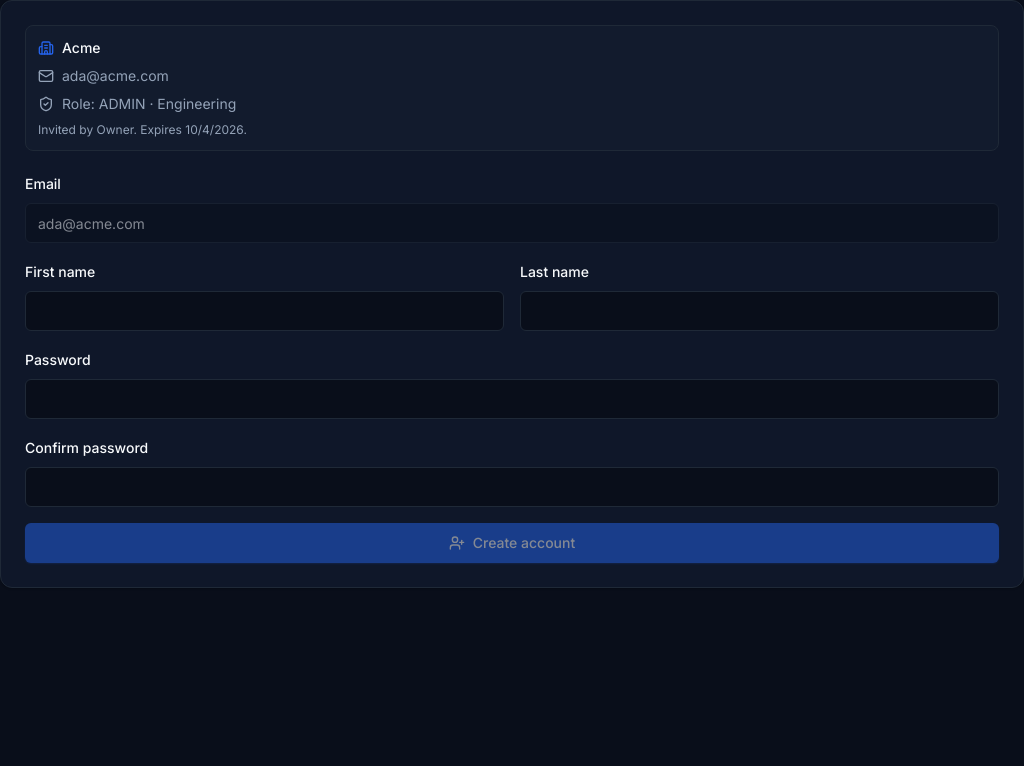
Test: AcceptInvitationPage — validation (§11, §17) › surfaces a server-side policy rejection instead of insisting the password is fine
Expected: the text "Acme" is shown, [62, 38, 101, 58]
Type "Ada" into the field labelled "First name" at (264, 311), box [25, 291, 504, 331]
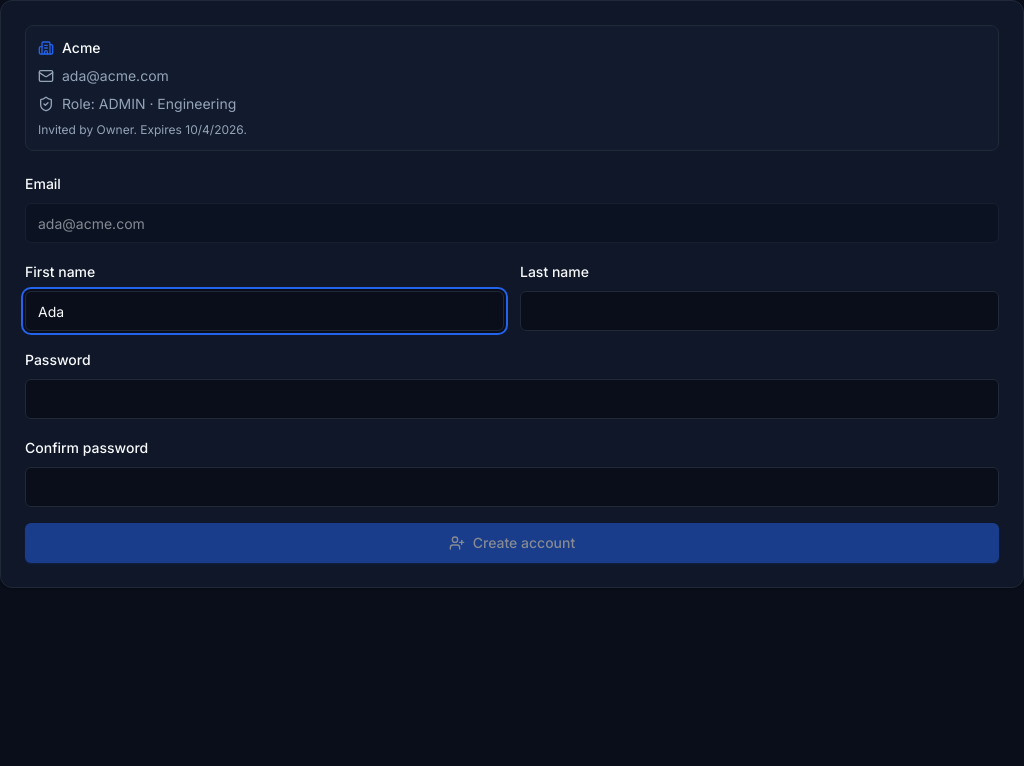
Type "Lovelace" into the field labelled "Last name" at (760, 311), box [520, 291, 999, 331]
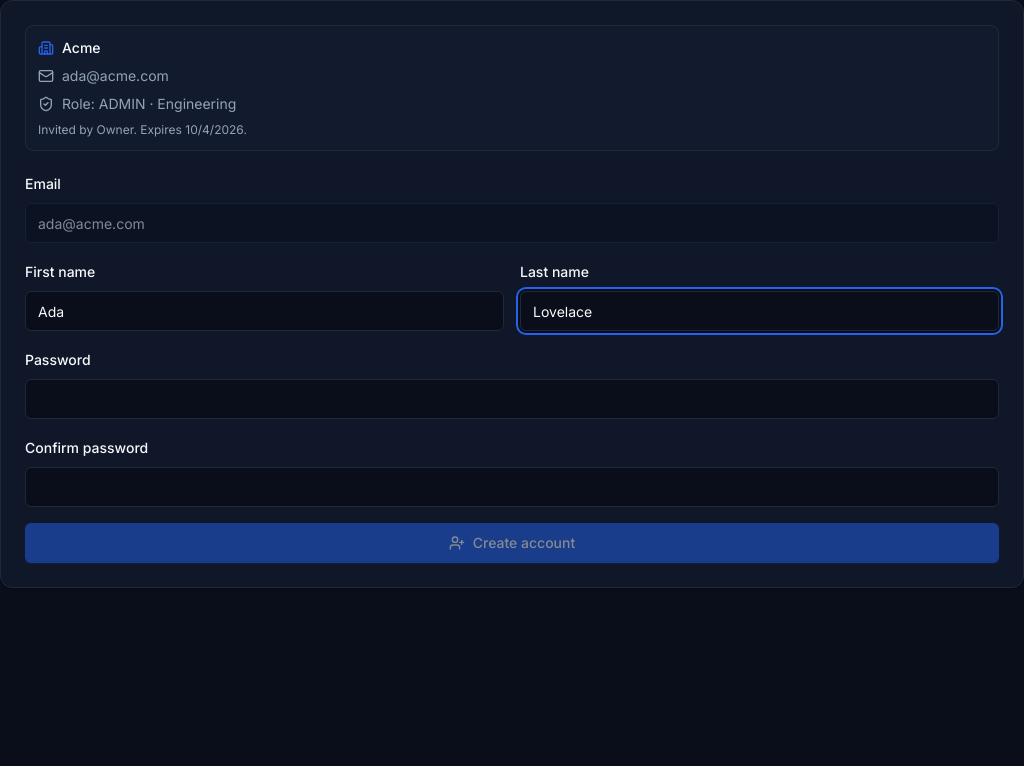
Type "Str0ngP@ssword!" into the password field labelled "Password" at (512, 399), box [25, 379, 999, 419]
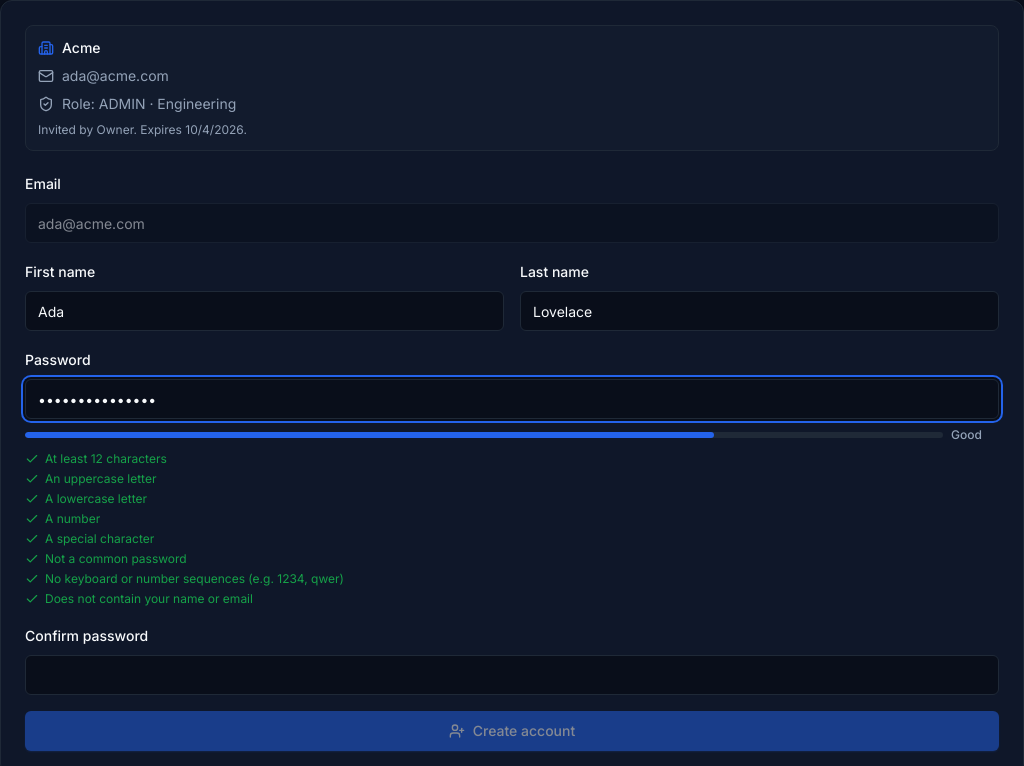
Type "Str0ngP@ssword!" into the password field labelled "Confirm password" at (512, 675), box [25, 655, 999, 695]
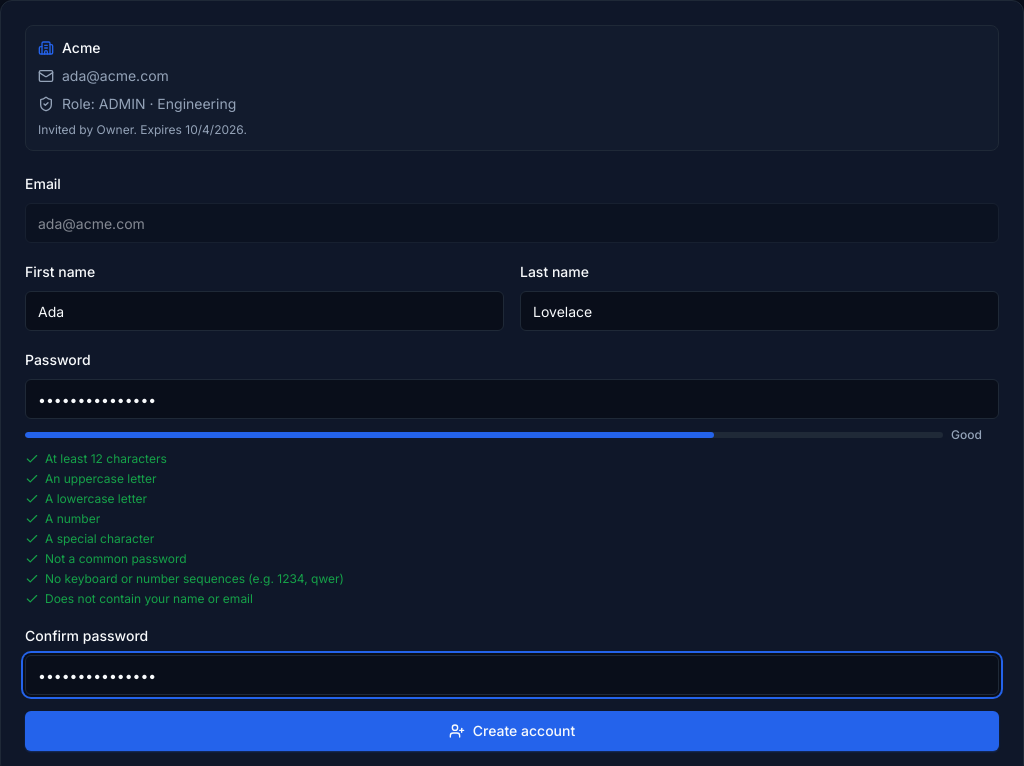
Click the button "Create account" at (512, 731), box [25, 711, 999, 751]
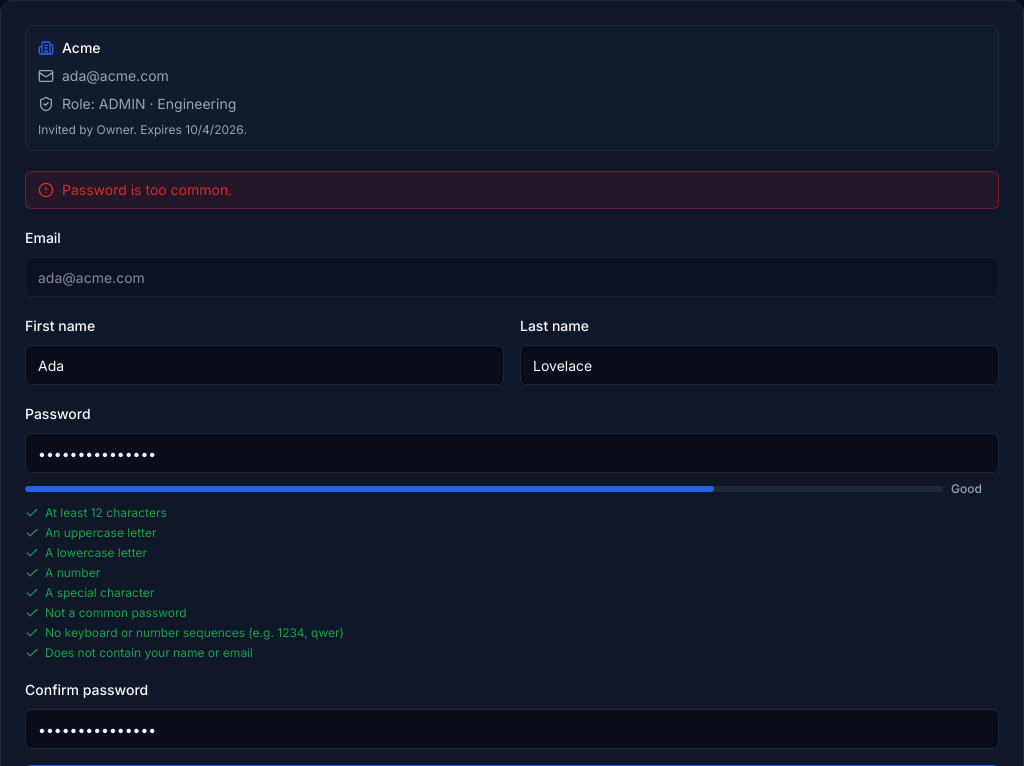
Expected: the message "Password is too common." is shown, [25, 171, 999, 209]
